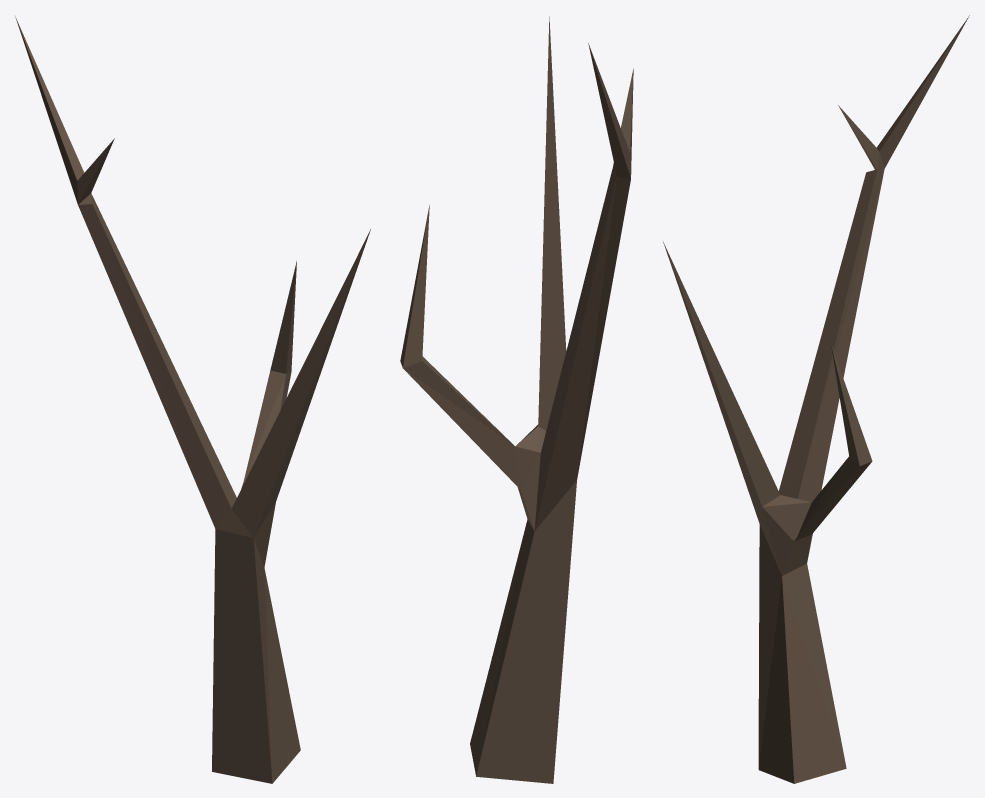
File: shrub4.glb
The picture shows the model from 3 angles, left to right: view 1: azimuth 30°, elevation 25°; view 2: azimuth 150°, elevation 25°; view 3: azimuth 270°, elevation 25°; orthographic projection. The views are drawn at different scales.
Visible parts, largest first — view 1: shrub_4; view 2: shrub_4; view 3: shrub_4.
Boxes of the visible parts, left/top/right/bottom form: shrub_4: left=15, top=16, right=370, bottom=783; shrub_4: left=400, top=16, right=633, bottom=783; shrub_4: left=663, top=15, right=969, bottom=783.
Bounding box in the file's own units: 0.1758 × 0.5557 × 0.2255.
